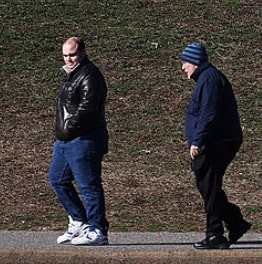Caution: (52, 35, 252, 248)
